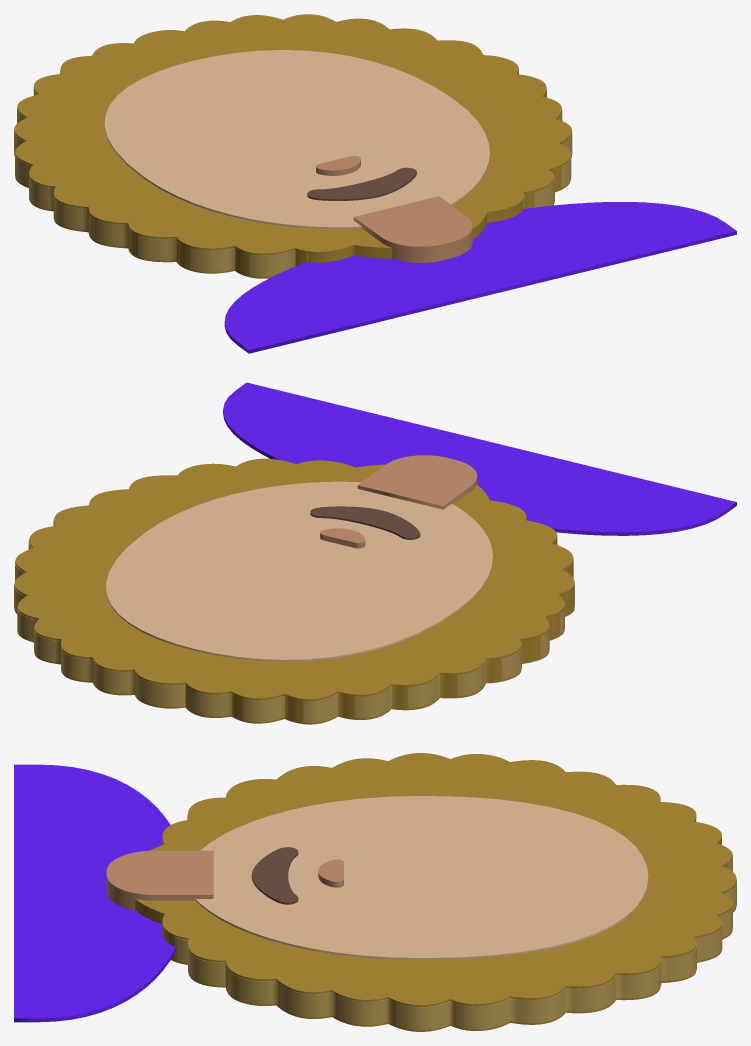
The model's file is emoji_u1f469_1f3fc_200d_1f9b1.glb.
3 renders of one model, top to bottom at view 1: azimuth 30°, elevation 25°; view 2: azimuth 150°, elevation 25°; view 3: azimuth 270°, elevation 25°, orthographic. The views are drawn at different scales.
Visible parts, largest first — view 1: emoji_u1f469_1f3fc_200d_1f9b1; view 2: emoji_u1f469_1f3fc_200d_1f9b1; view 3: emoji_u1f469_1f3fc_200d_1f9b1.
Part boxes in pixels (x1,y1,x2,y2): emoji_u1f469_1f3fc_200d_1f9b1: [14, 14, 736, 353]; emoji_u1f469_1f3fc_200d_1f9b1: [14, 382, 736, 724]; emoji_u1f469_1f3fc_200d_1f9b1: [14, 753, 736, 1031].
Bounding box in the file's own units: 0.0285 × 0.0022 × 0.0342.
